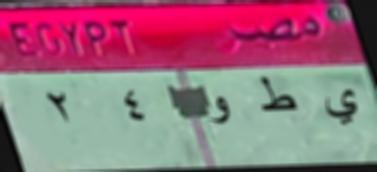2: (40, 89, 80, 128)
4: (117, 84, 152, 130)
Taa: (250, 66, 301, 119)
waw: (207, 88, 236, 134)
yaa: (320, 80, 362, 132)
